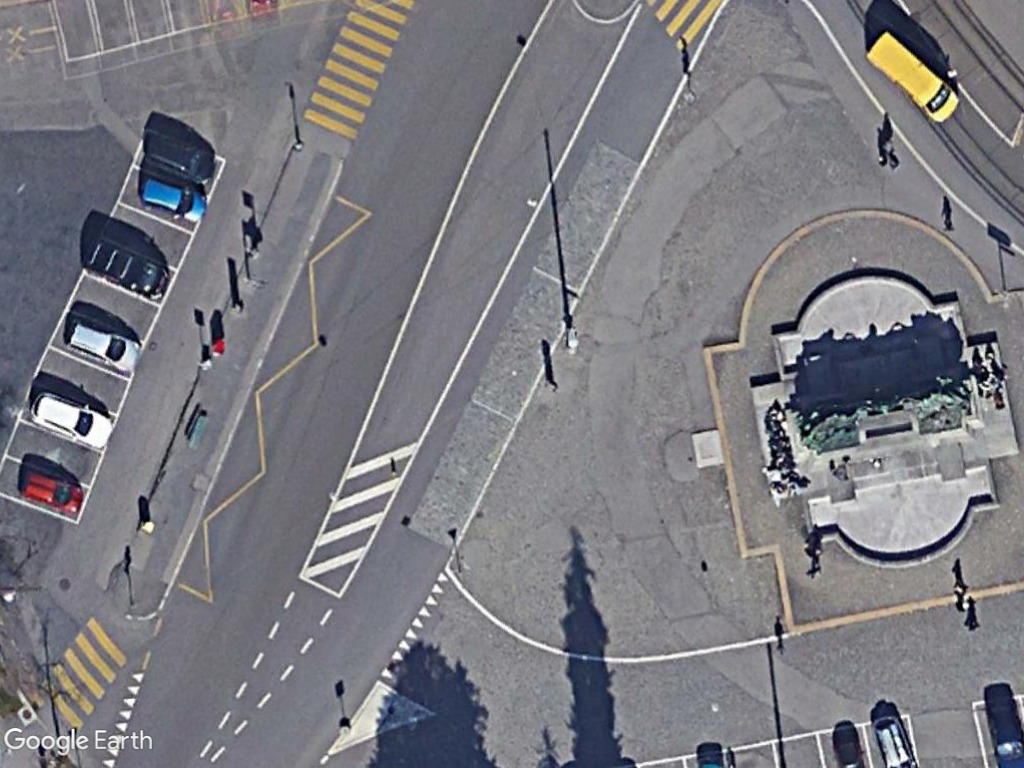car: (24, 393, 115, 452), (63, 319, 143, 375), (137, 175, 210, 223), (20, 467, 88, 517)
van: (863, 29, 961, 125)
